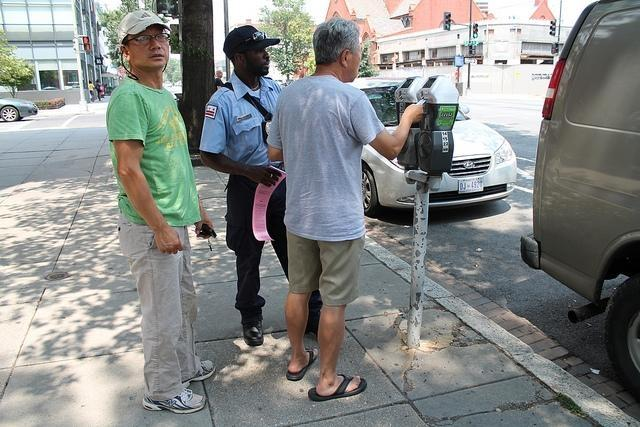car: (524, 3, 640, 420), (346, 79, 518, 219), (0, 98, 38, 122)
truck: (521, 3, 640, 400)
